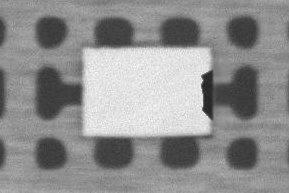DIE_BROKEN: (198, 66, 215, 121)
